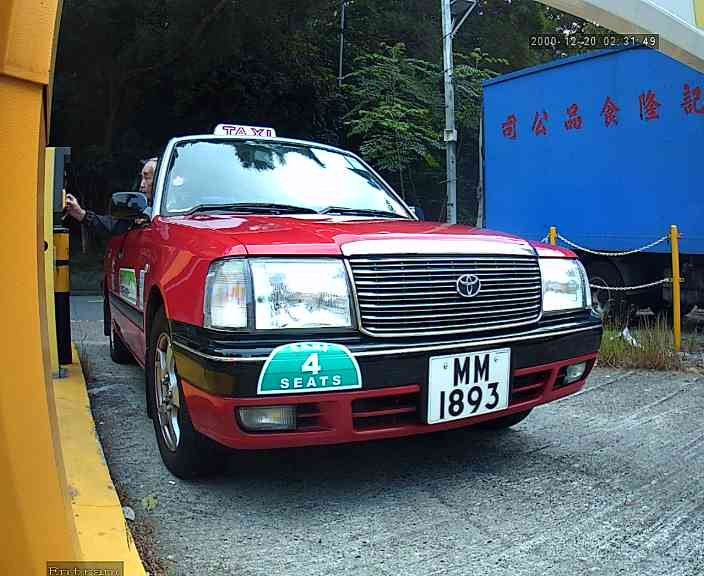taxi: (85, 102, 612, 476)
taxi_mark: (251, 331, 376, 405)
